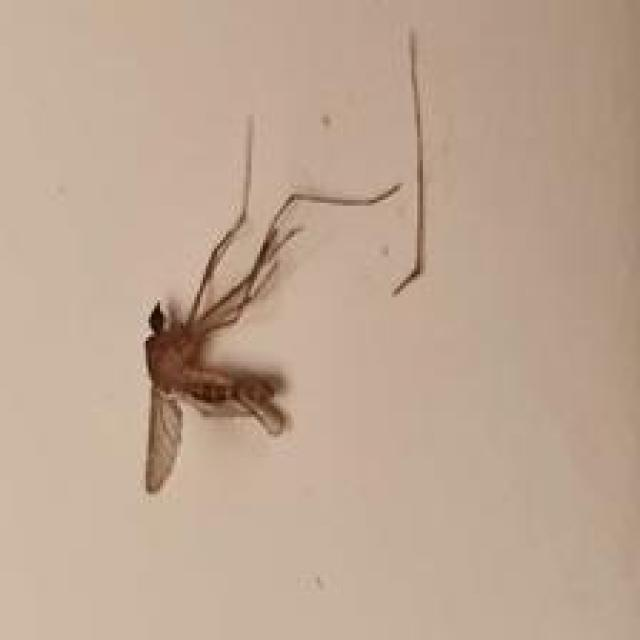Culex: (140, 112, 403, 494)
